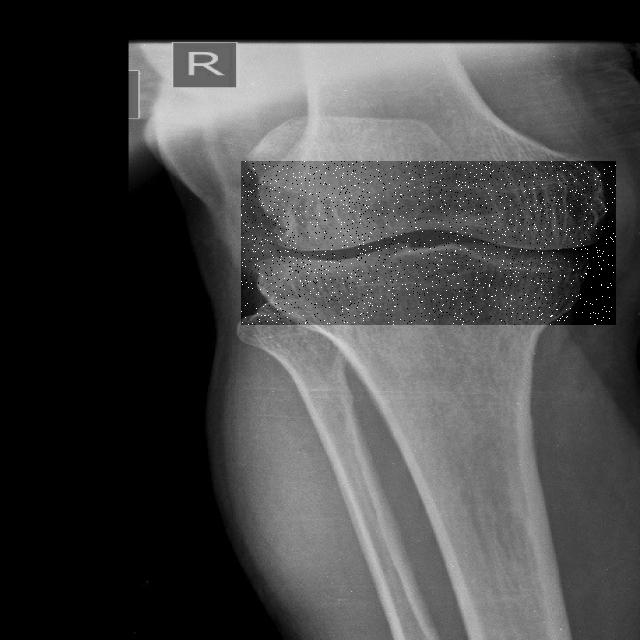osteo: (241, 161, 616, 325)
